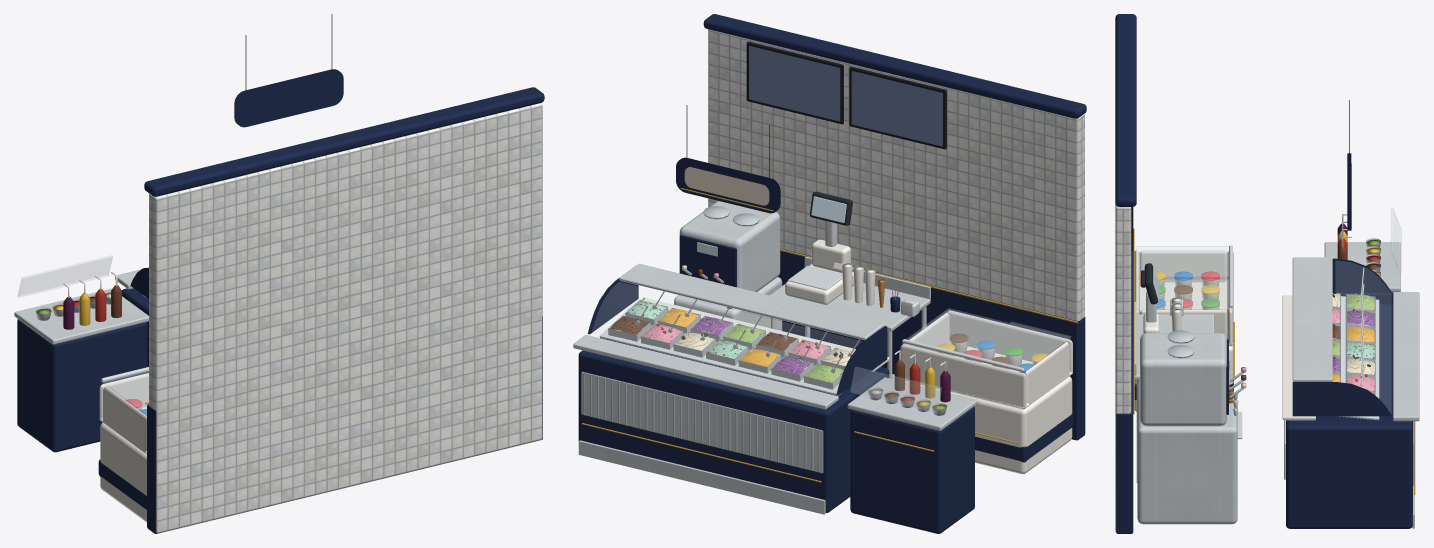
Rendered from sector-sorvetes_T2.fbx.
3 renders of one model, left to right at view 1: azimuth 30°, elevation 25°; view 2: azimuth 150°, elevation 25°; view 3: azimuth 270°, elevation 25°, orthographic. The views are drawn at different scales.
Parts seen in each view (by area): view 1: Body; view 2: Body; view 3: Body.
Part boxes in pixels (x1,y1,x2,y2): Body: (14,14,544,533); Body: (573,14,1086,533); Body: (1115,14,1419,533).
Bounding box in the file's own units: 3.29 × 2.89 × 2.28.
